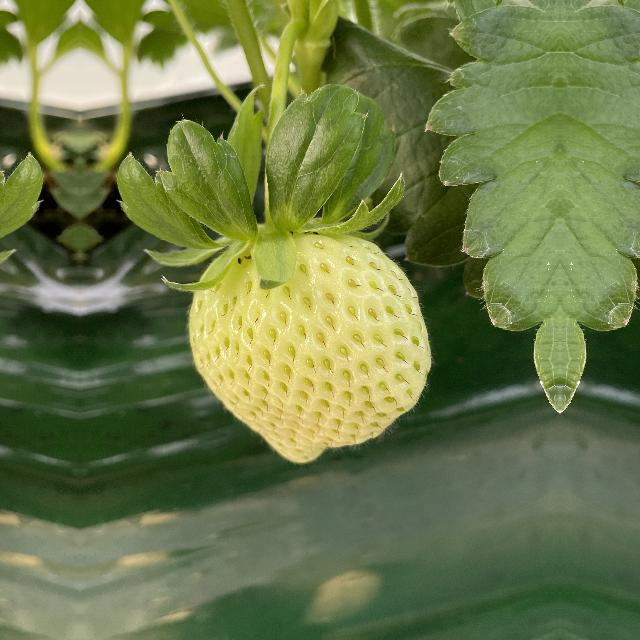Health_25: (180, 211, 432, 467)
